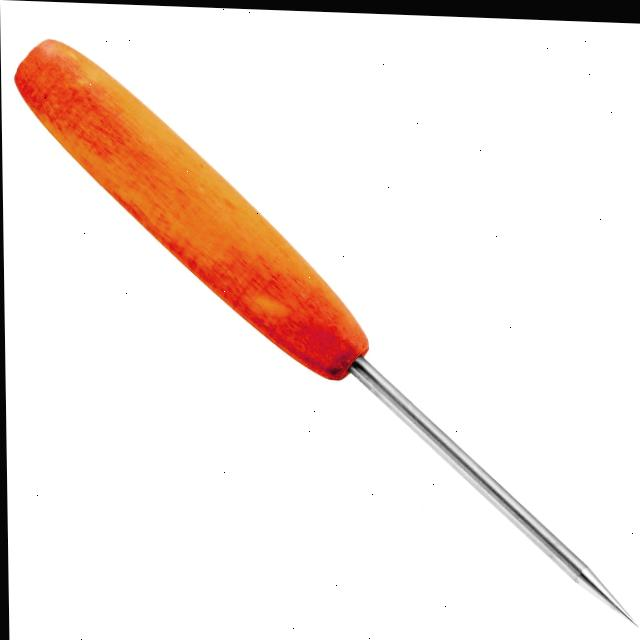ice pick: (12, 37, 637, 623)
